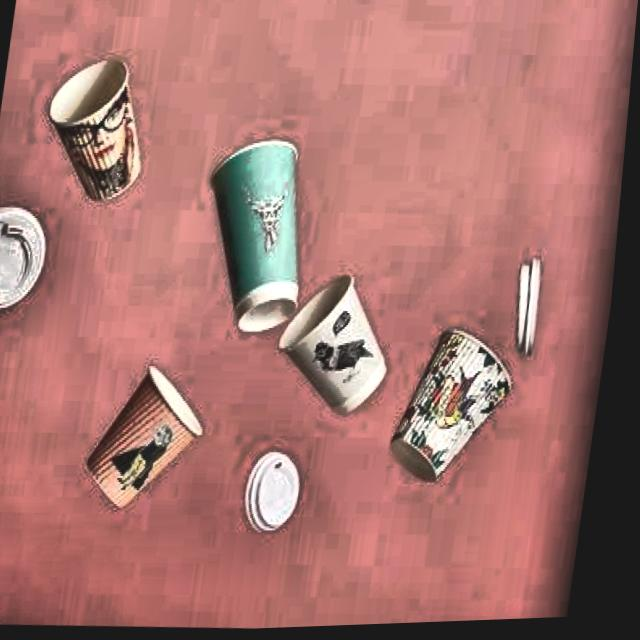Cup: (189, 118, 337, 363), (392, 314, 529, 507), (275, 248, 405, 429), (34, 63, 168, 231), (82, 370, 218, 533)
